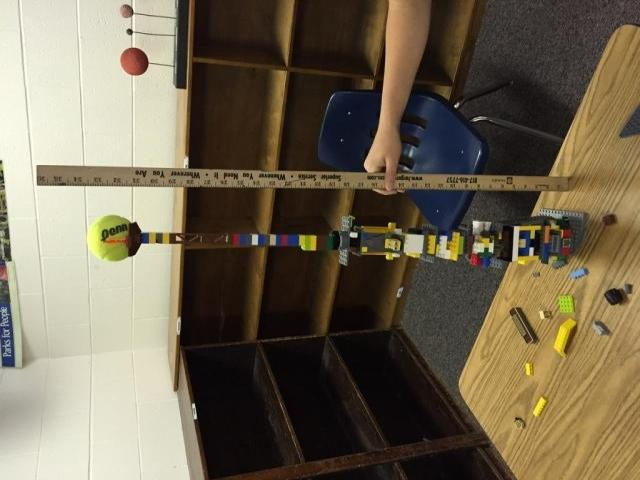tennis-ball: (86, 214, 138, 262)
